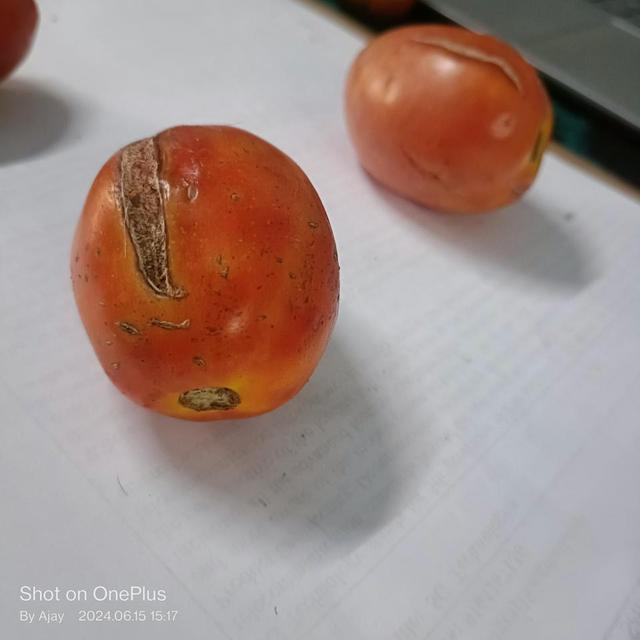Cracking Fruit: (37, 33, 124, 216)
